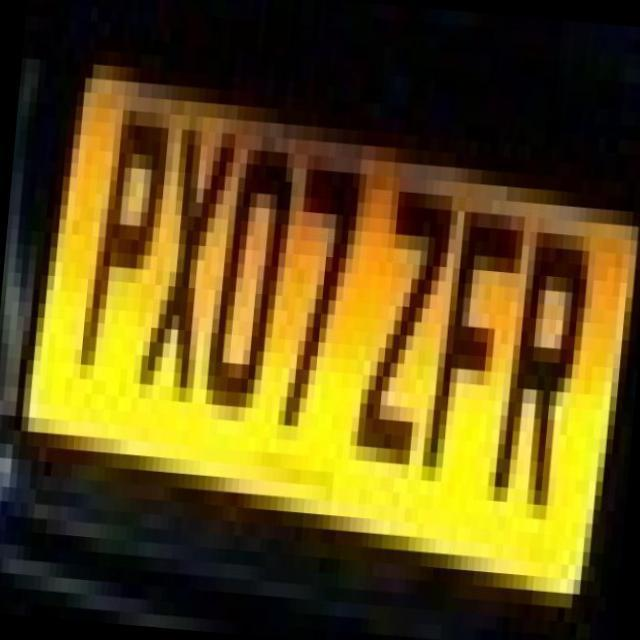license_plate: (5, 51, 640, 615)
